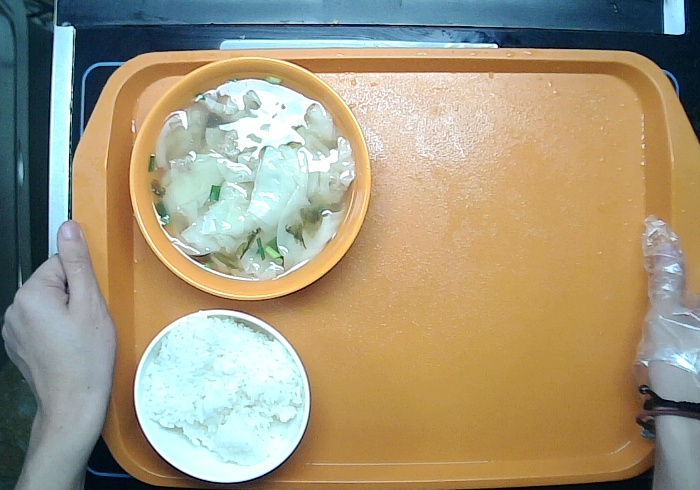NLDX-Fan_Wan: (127, 303, 313, 487)
NLDX-Hun_Tun_Wan: (129, 56, 373, 301)
